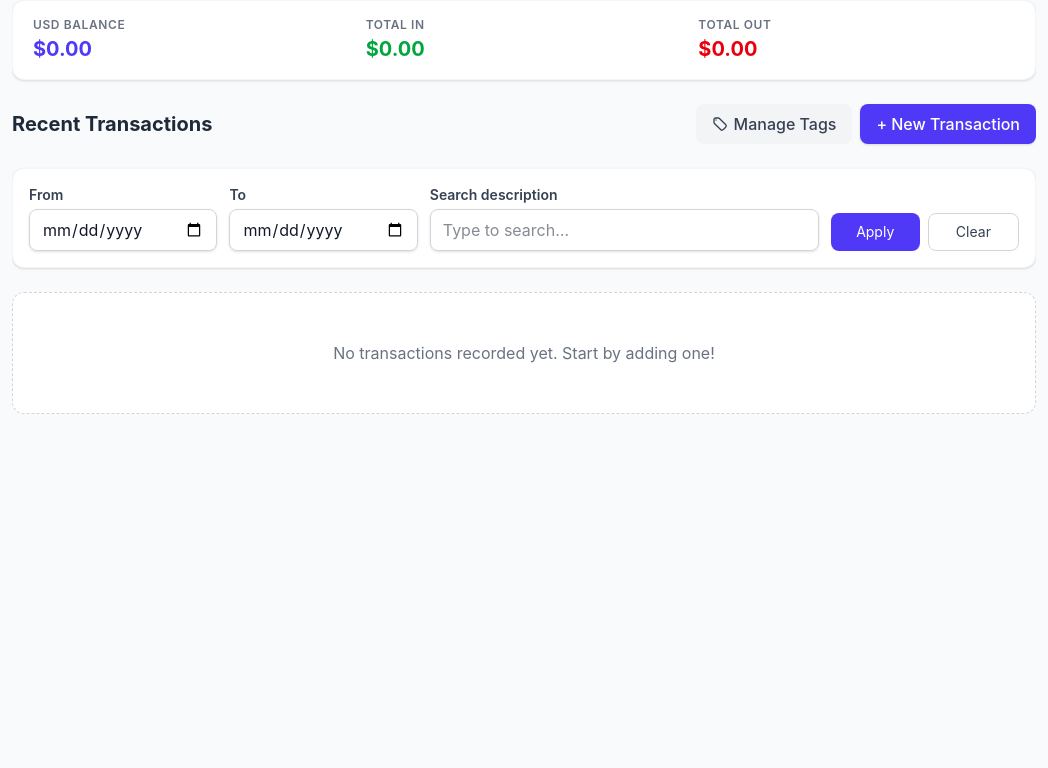
it: TransactionDashboard.vue › validates date range before filtering
Type "2026-02-01" into the date field below "From" at (123, 230), box [29,209,217,251]
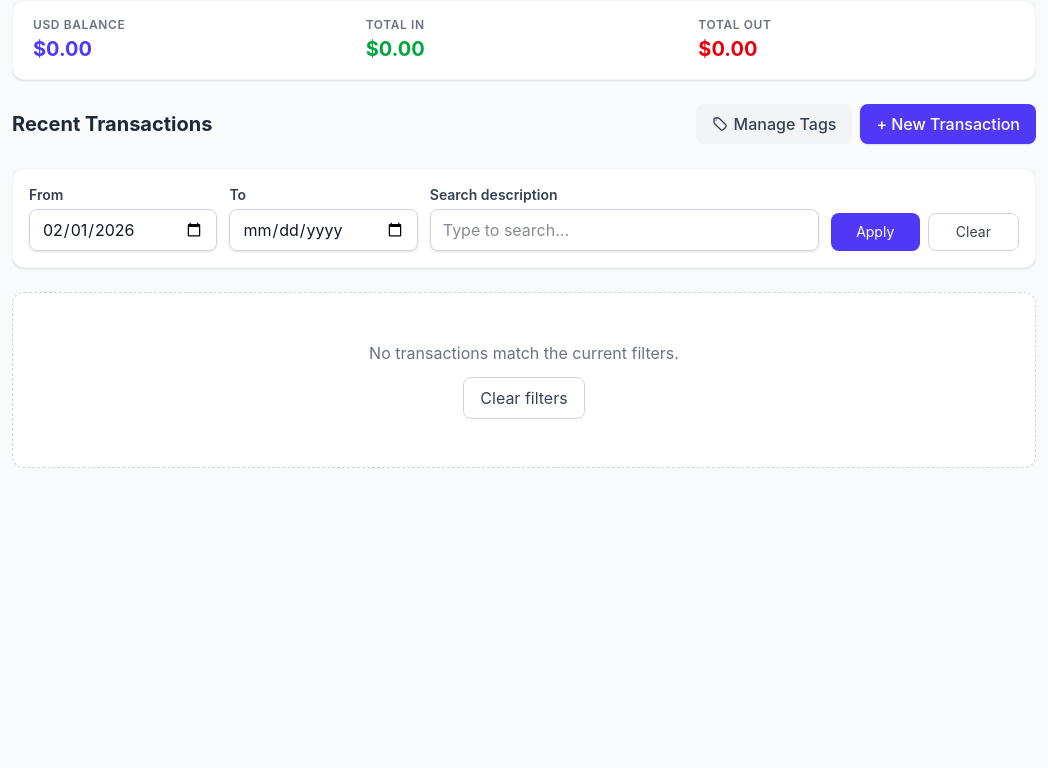
Type "2026-01-01" into the 2nd date field at (324, 230), box [229,209,418,251]
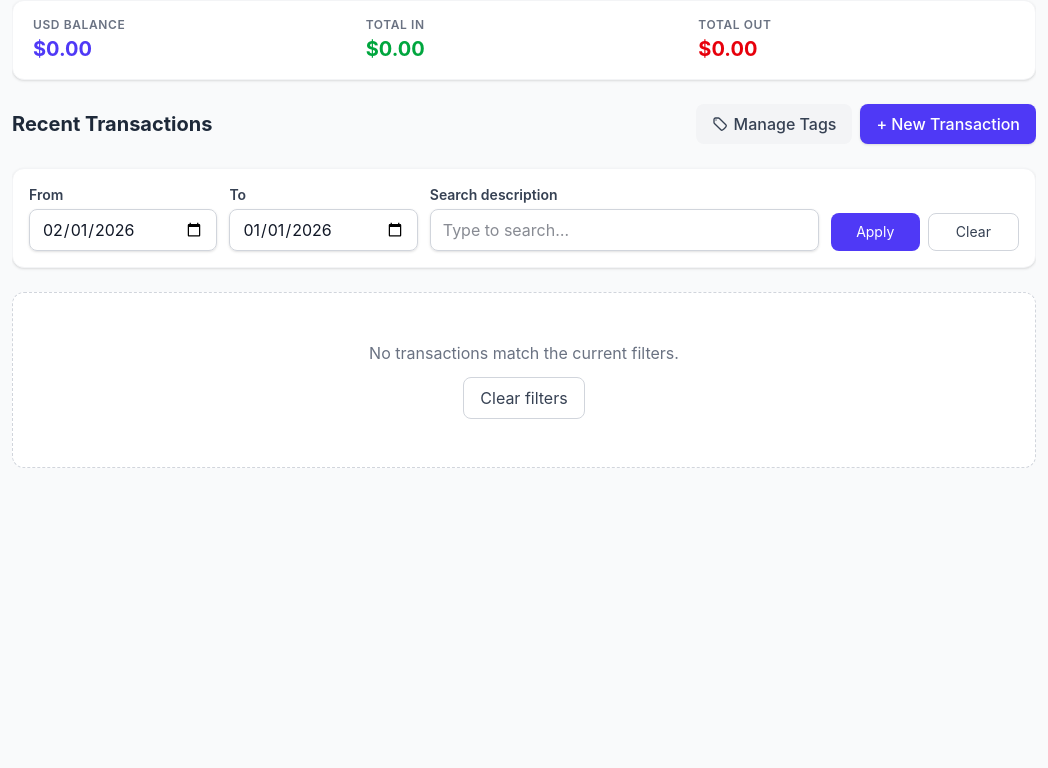
Click the button "Apply" at (875, 232), box [831,213,920,251]
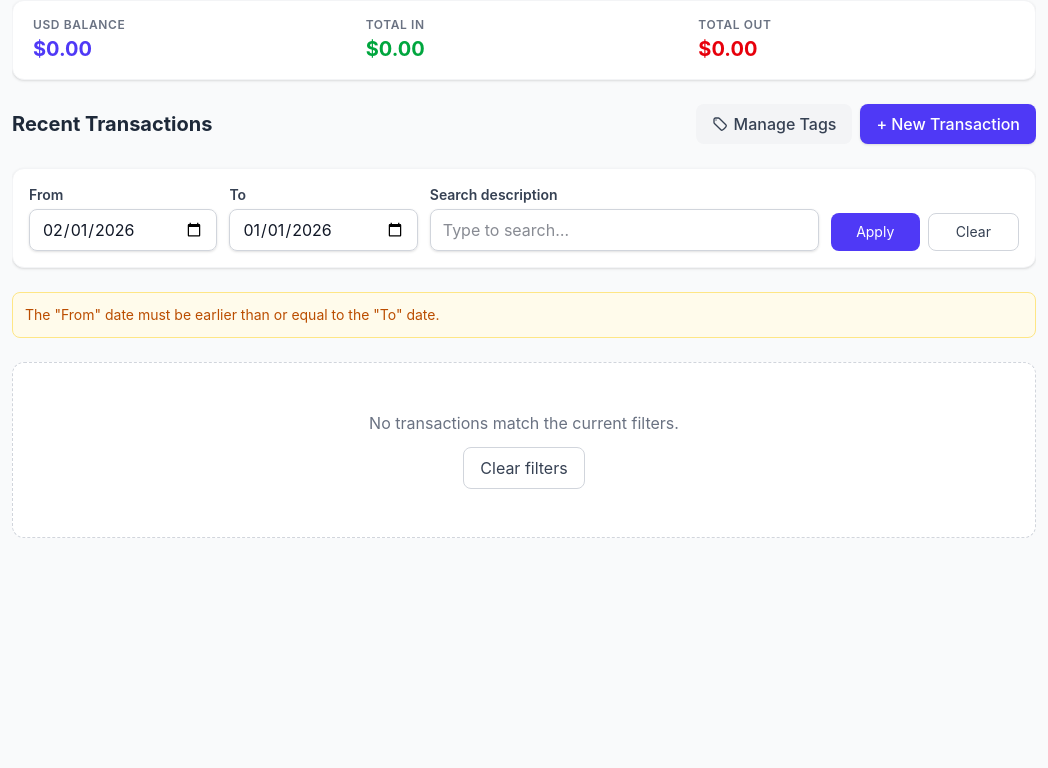
Now the text "The \"From\" date must be earlier than or equal to the \"To\" date." is shown, box [12,292,1036,338]
